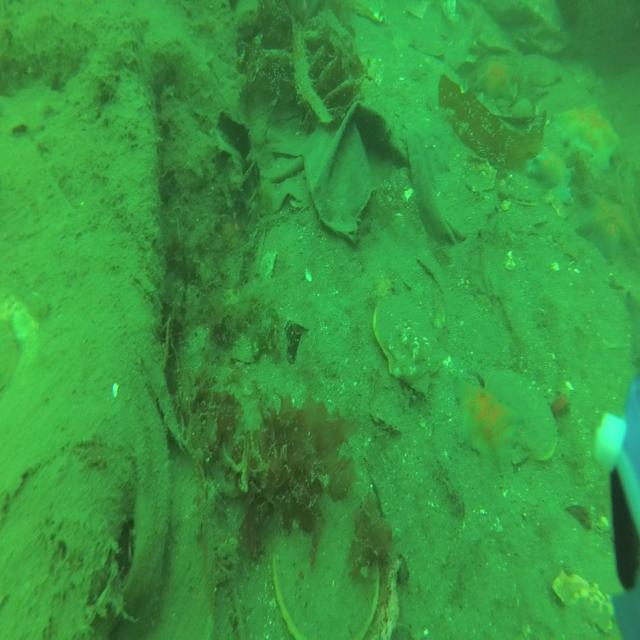scallop: (273, 487, 401, 640), (484, 367, 558, 468), (374, 295, 442, 399), (552, 569, 614, 640), (510, 53, 562, 87), (0, 318, 22, 389), (500, 171, 540, 209), (464, 160, 496, 196), (504, 96, 535, 120), (412, 36, 444, 57)
starfish: (554, 100, 621, 173), (576, 194, 636, 263), (527, 148, 573, 204), (474, 58, 514, 100)
